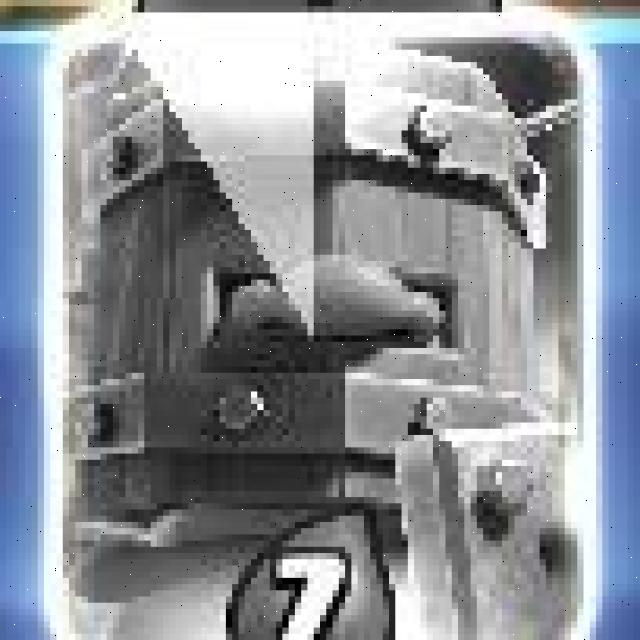Evolved_Recruits: (41, 9, 613, 640)
